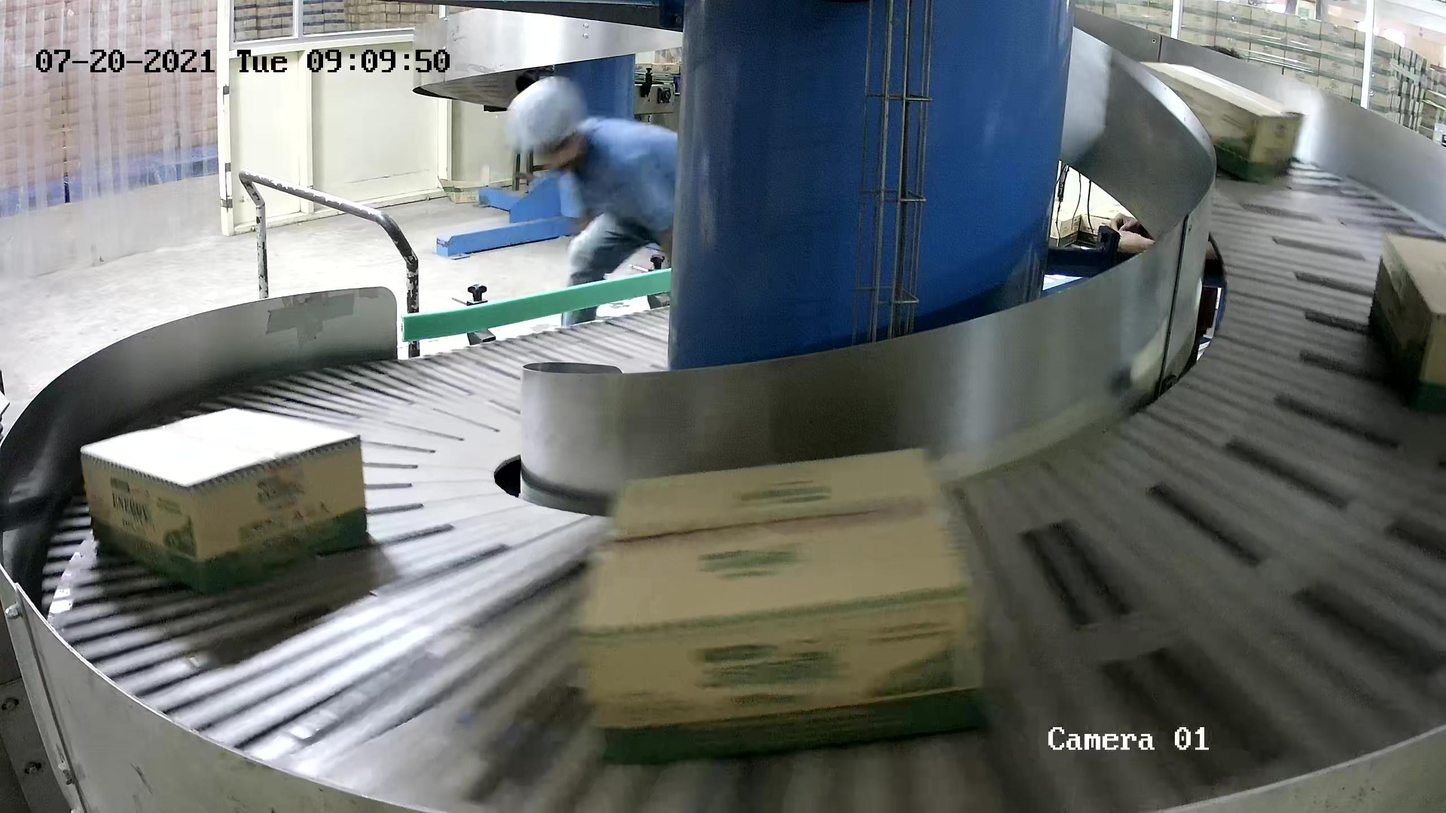Box: (564, 445, 990, 760), (78, 406, 368, 595), (1136, 60, 1306, 181), (1367, 232, 1446, 409)
